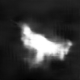plane: (16, 20, 74, 70)
